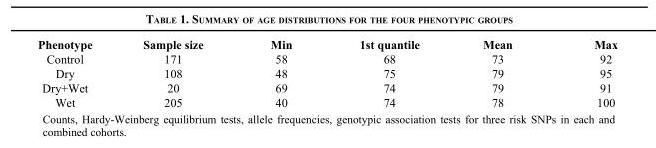table: (37, 37, 616, 108)
table column: (325, 37, 450, 108), (116, 37, 236, 108), (450, 37, 552, 108), (236, 37, 325, 108), (37, 37, 116, 108), (552, 37, 616, 108)
table column header: (37, 37, 616, 51)
table row: (37, 65, 616, 80), (37, 37, 616, 51), (37, 51, 616, 65), (37, 80, 616, 94), (37, 94, 616, 108)
